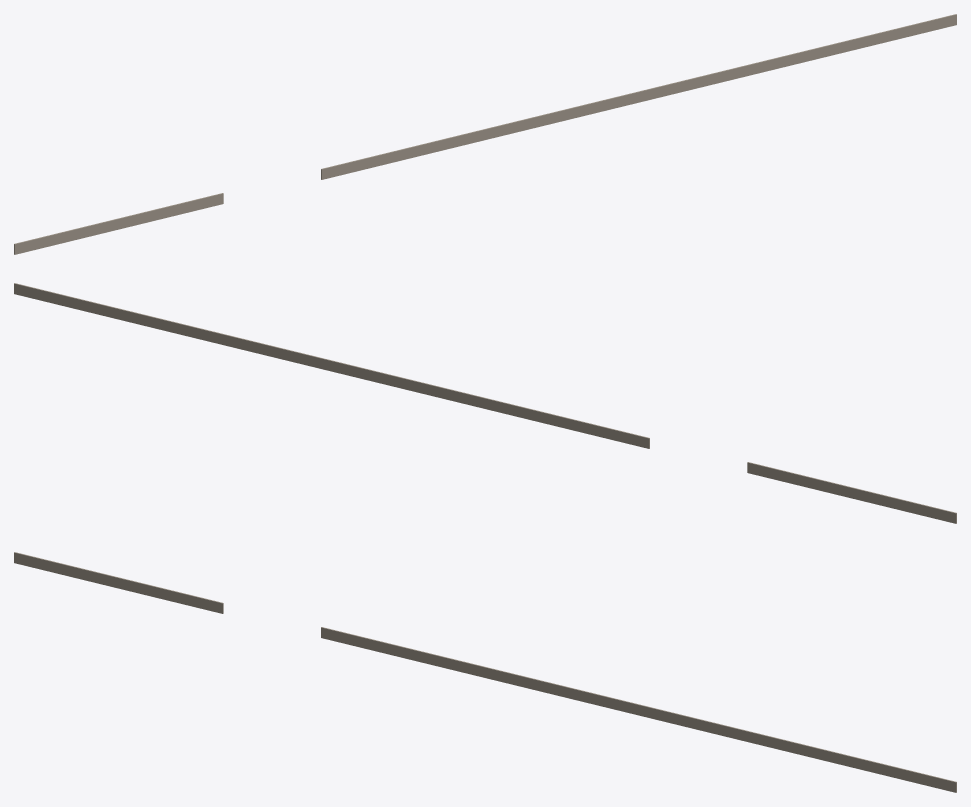
File: SM_Skirting_Living_South_001.fbx
3 views of the same model, one above another, from view 1: azimuth 30°, elevation 25°; view 2: azimuth 150°, elevation 25°; view 3: azimuth 330°, elevation 25° (orthographic).
Visible parts, largest first — view 1: SM_Skirting_Living_South_001; view 2: SM_Skirting_Living_South_001; view 3: SM_Skirting_Living_South_001.
Part boxes in pixels (bbox=[...]): SM_Skirting_Living_South_001: bbox=[14, 14, 956, 254]; SM_Skirting_Living_South_001: bbox=[14, 283, 956, 523]; SM_Skirting_Living_South_001: bbox=[14, 552, 956, 792].
Bounding box in the file's own units: 1030 × 11 × 1.4.
